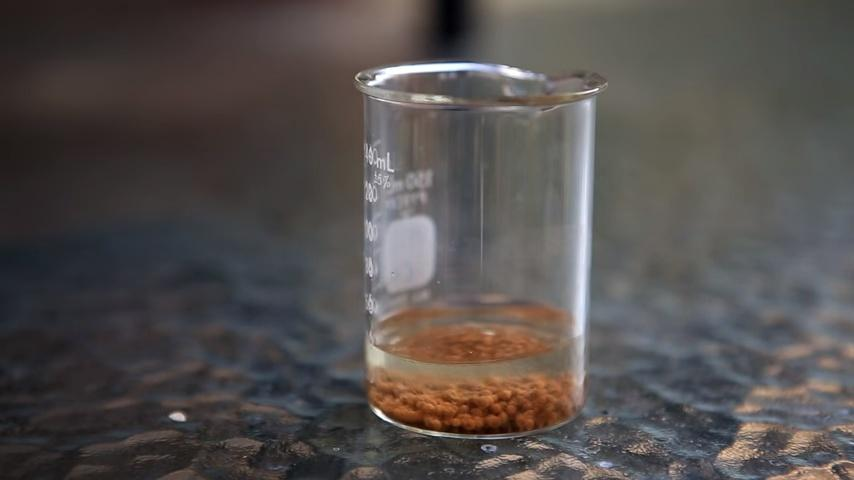Beaker: (346, 60, 610, 438)
